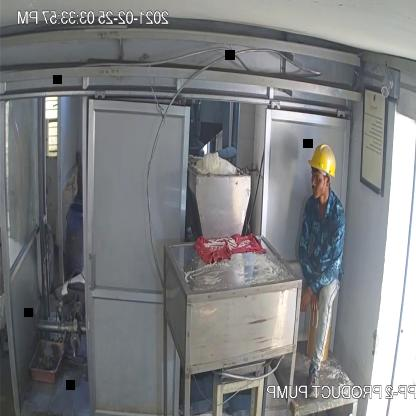helmet: (308, 133, 341, 181)
